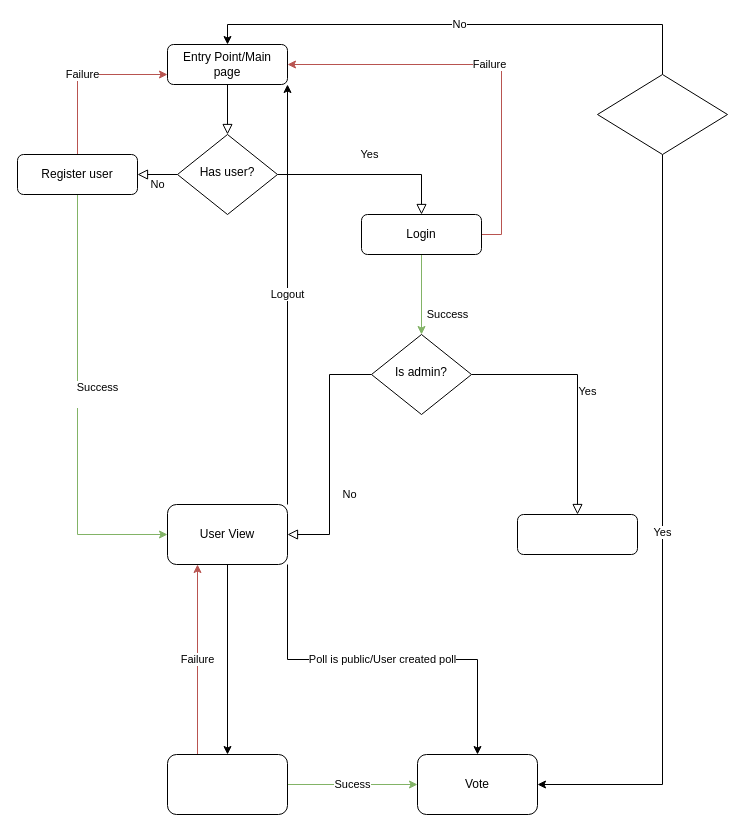
Some shapes in this 745 by 832 pixel diagram are drawn without their labels. Each missing label, with the centre of its shape:
"Admin User View" belongs at point 577,534.
"Create Poll" belongs at point 227,784.
"Is poll anonymous?" belongs at point 662,114.
